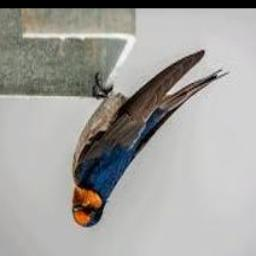Swallow: (72, 50, 229, 228)
